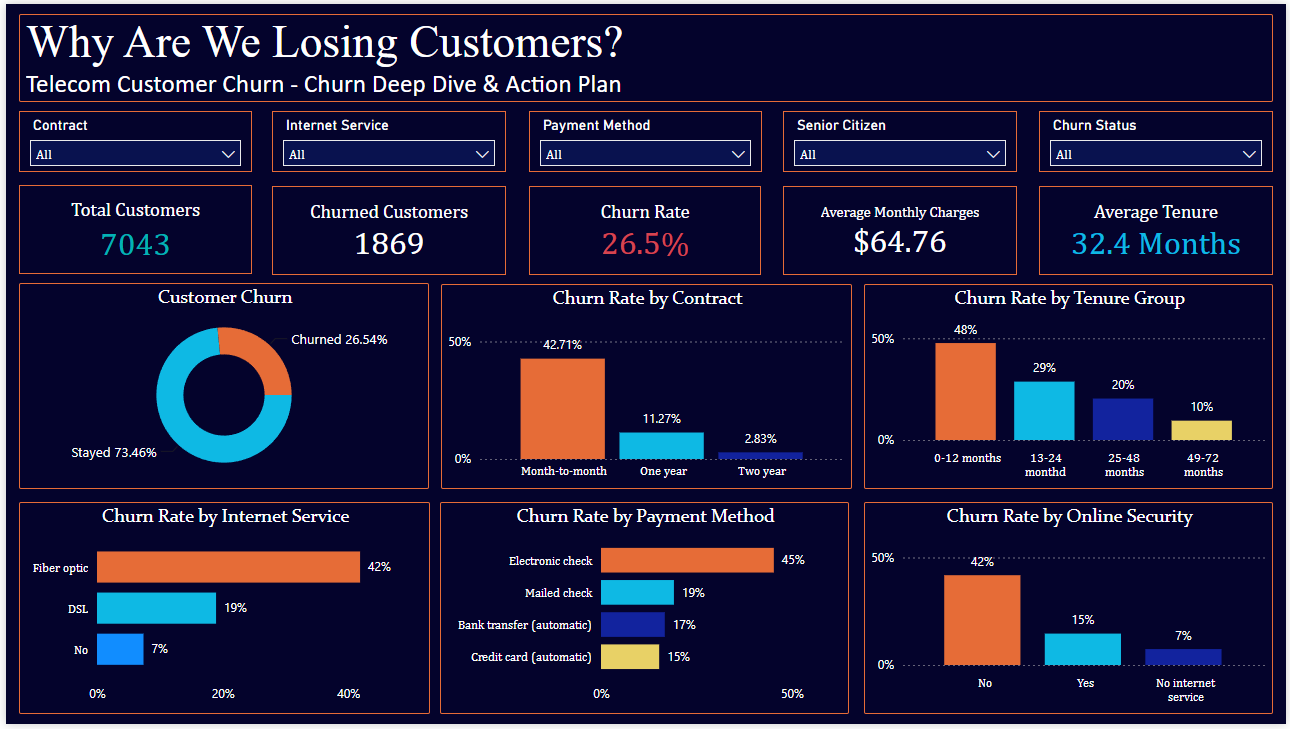

Layout of this report page (visuals, bound fields, positions):
{"tool":"powerbi","page":{"name":"Page 1","canvas":[1280,720],"ordinal":0},"visuals":[{"type":"cardVisual","fields":{"Data":["Telecom_churn_cleaned.Total Customers"]},"box":[13,181,232.6,89.4],"z":0},{"type":"cardVisual","fields":{"Data":["Telecom_churn_cleaned.Churned Customers"]},"box":[266.2,181.6,233.5,89.4],"z":1000},{"type":"cardVisual","fields":{"Data":["Telecom_churn_cleaned.Churn Rate %"]},"box":[522.8,181.6,232.6,89.4],"z":2000},{"type":"cardVisual","fields":{"Data":["Telecom_churn_cleaned.Average Monthly Charges"]},"box":[777.4,181.6,233.5,89.4],"z":3000},{"type":"cardVisual","fields":{"Data":["Telecom_churn_cleaned.Average Tenure1"]},"box":[1033,181.6,233.5,89.4],"z":4000},{"type":"textbox","title":"Why Are We Losing Customers?","box":[13.5,9.6,1253.1,88.4],"z":5000},{"type":"donutChart","title":"Customer Churn","fields":{"Y":["CountNonNull(Telecom_churn_cleaned.CustomerID)"],"Category":["Telecom_churn_cleaned.Churn status"]},"box":[13,279,410.3,205.6],"z":6000},{"type":"columnChart","title":"Churn Rate by Contract","fields":{"Category":["Telecom_churn_cleaned.Contract"],"Y":["Telecom_churn_cleaned.Churn Rate %"]},"box":[435.3,279.6,410.3,205.6],"z":7000},{"type":"columnChart","title":"Churn Rate by Tenure Group","fields":{"Category":["Telecom_churn_cleaned.TenureGroup"],"Y":["Telecom_churn_cleaned.Churn Rate %"]},"box":[858.1,279.6,408.4,205.6],"z":8000},{"type":"clusteredBarChart","title":"Churn Rate by Internet Service","fields":{"Category":["Telecom_churn_cleaned.InternetService"],"Y":["Telecom_churn_cleaned.Churn Rate %"]},"box":[13.5,497.8,410.3,212.4],"z":9000},{"type":"clusteredBarChart","title":"Churn Rate by Payment Method","fields":{"Category":["Telecom_churn_cleaned.PaymentMethod"],"Y":["Telecom_churn_cleaned.Churn Rate %"]},"box":[434.4,497.8,408.4,212.4],"z":10000},{"type":"columnChart","title":"Churn Rate by Online Security","fields":{"Category":["Telecom_churn_cleaned.OnlineSecurity"],"Y":["Telecom_churn_cleaned.Churn Rate %"]},"box":[858.1,497.8,408.4,212.4],"z":11000},{"type":"slicer","fields":{"Values":["Telecom_churn_cleaned.Contract"]},"box":[13.5,106.7,232.6,61.5],"z":12000},{"type":"slicer","fields":{"Values":["Telecom_churn_cleaned.InternetService"]},"box":[266.2,106.7,233.5,61.5],"z":13000},{"type":"slicer","fields":{"Values":["Telecom_churn_cleaned.PaymentMethod"]},"box":[522.8,106.7,233.5,61.5],"z":14000},{"type":"slicer","fields":{"Values":["Telecom_churn_cleaned.Senior Citizen"]},"box":[777.4,106.7,233.5,61.5],"z":15000},{"type":"slicer","fields":{"Values":["Telecom_churn_cleaned.Churn status"]},"box":[1033,106.7,233.5,61.5],"z":16000}]}

Visuals, with their boxes in screenshot pixels (x1, y1, x2, y2), scaled from the page's 1280x720 canvas onto the 1290x729 screenshot:
cardVisual - Telecom_churn_cleaned.Total Customers: (x1=13, y1=183, x2=248, y2=274)
cardVisual - Telecom_churn_cleaned.Churned Customers: (x1=268, y1=184, x2=504, y2=274)
cardVisual - Telecom_churn_cleaned.Churn Rate %: (x1=527, y1=184, x2=761, y2=274)
cardVisual - Telecom_churn_cleaned.Average Monthly Charges: (x1=783, y1=184, x2=1019, y2=274)
cardVisual - Telecom_churn_cleaned.Average Tenure1: (x1=1041, y1=184, x2=1276, y2=274)
"Why Are We Losing Customers?" textbox: (x1=14, y1=10, x2=1276, y2=99)
"Customer Churn" donutChart: (x1=13, y1=282, x2=427, y2=491)
"Churn Rate by Contract" columnChart: (x1=439, y1=283, x2=852, y2=491)
"Churn Rate by Tenure Group" columnChart: (x1=865, y1=283, x2=1276, y2=491)
"Churn Rate by Internet Service" clusteredBarChart: (x1=14, y1=504, x2=427, y2=719)
"Churn Rate by Payment Method" clusteredBarChart: (x1=438, y1=504, x2=849, y2=719)
"Churn Rate by Online Security" columnChart: (x1=865, y1=504, x2=1276, y2=719)
slicer - Telecom_churn_cleaned.Contract: (x1=14, y1=108, x2=248, y2=170)
slicer - Telecom_churn_cleaned.InternetService: (x1=268, y1=108, x2=504, y2=170)
slicer - Telecom_churn_cleaned.PaymentMethod: (x1=527, y1=108, x2=762, y2=170)
slicer - Telecom_churn_cleaned.Senior Citizen: (x1=783, y1=108, x2=1019, y2=170)
slicer - Telecom_churn_cleaned.Churn status: (x1=1041, y1=108, x2=1276, y2=170)
